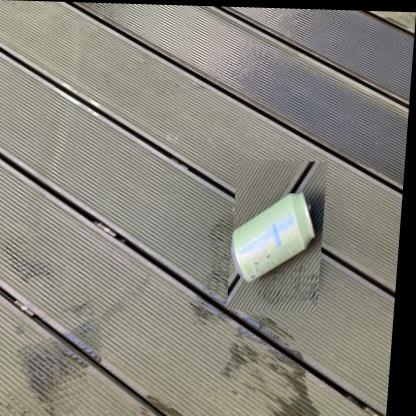trash: (232, 193, 314, 281)
